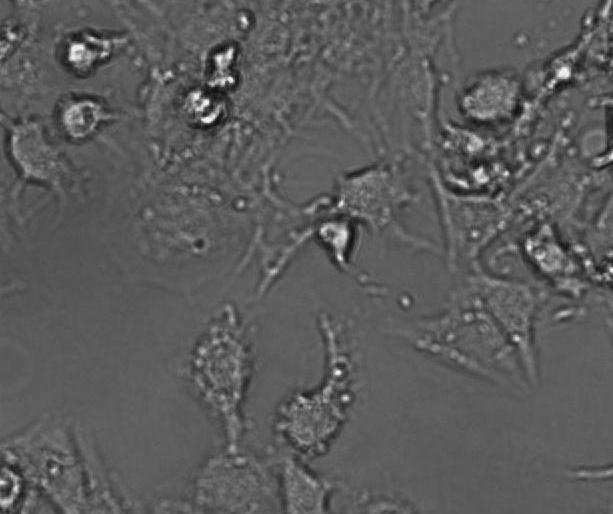Dead: (55, 24, 133, 79), (308, 208, 365, 279), (50, 91, 123, 146), (442, 159, 517, 198), (178, 82, 235, 132), (438, 120, 512, 158), (200, 37, 244, 92), (1, 459, 26, 513)
